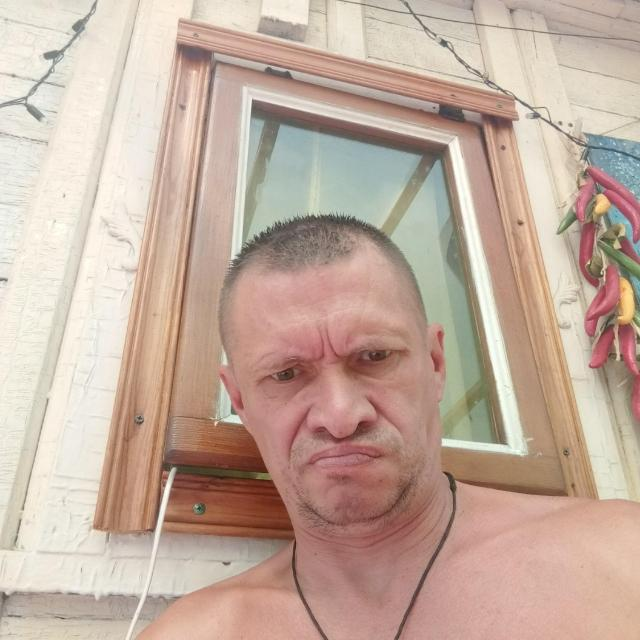Angry: (212, 236, 355, 384)
